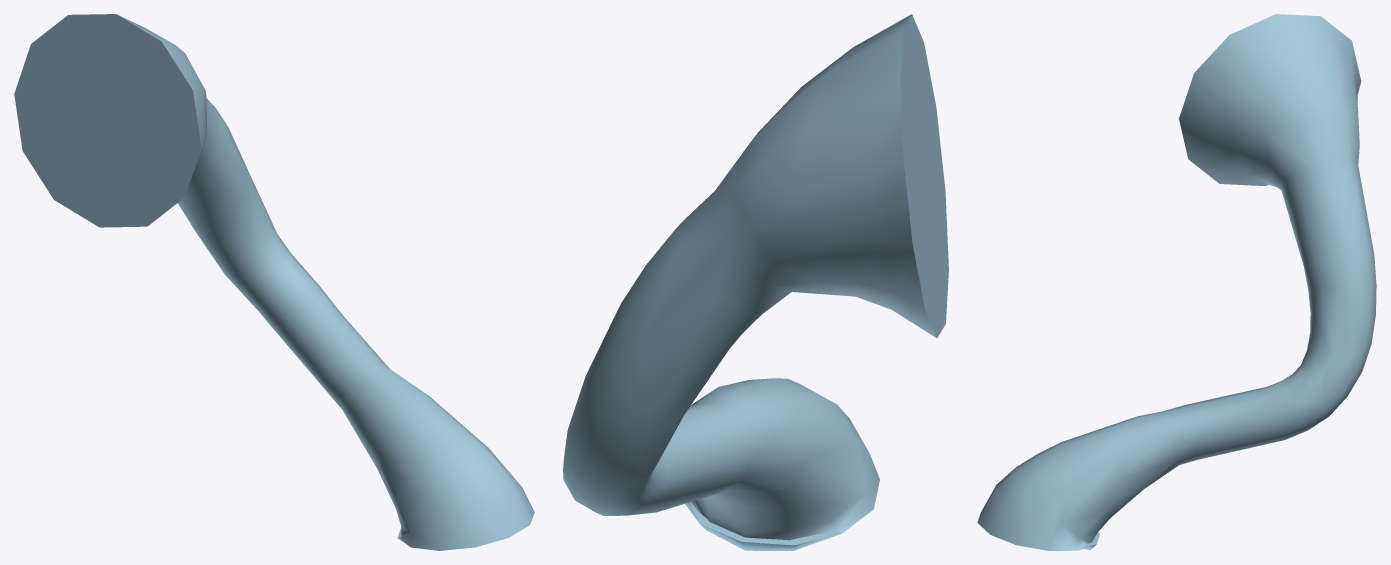
File: articulacoes-anterior-cruciate-ligament-r.glb
3 views of the same model, side by side, from view 1: azimuth 30°, elevation 25°; view 2: azimuth 150°, elevation 25°; view 3: azimuth 270°, elevation 25° (orthographic). The views are drawn at different scales.
Parts seen in each view (by area): view 1: Anterior cruciate ligament.r; view 2: Anterior cruciate ligament.r; view 3: Anterior cruciate ligament.r.
Boxes of the visible parts, left/top/right/bottom form: Anterior cruciate ligament.r: left=14, top=14, right=534, bottom=550; Anterior cruciate ligament.r: left=563, top=14, right=948, bottom=550; Anterior cruciate ligament.r: left=977, top=14, right=1376, bottom=550.
Size of the model in its own units: 0.0212 by 0.0297 by 0.0246.
